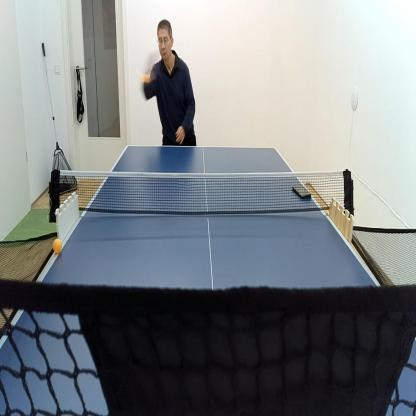Ball: (51, 236, 63, 256), (141, 72, 151, 82)
